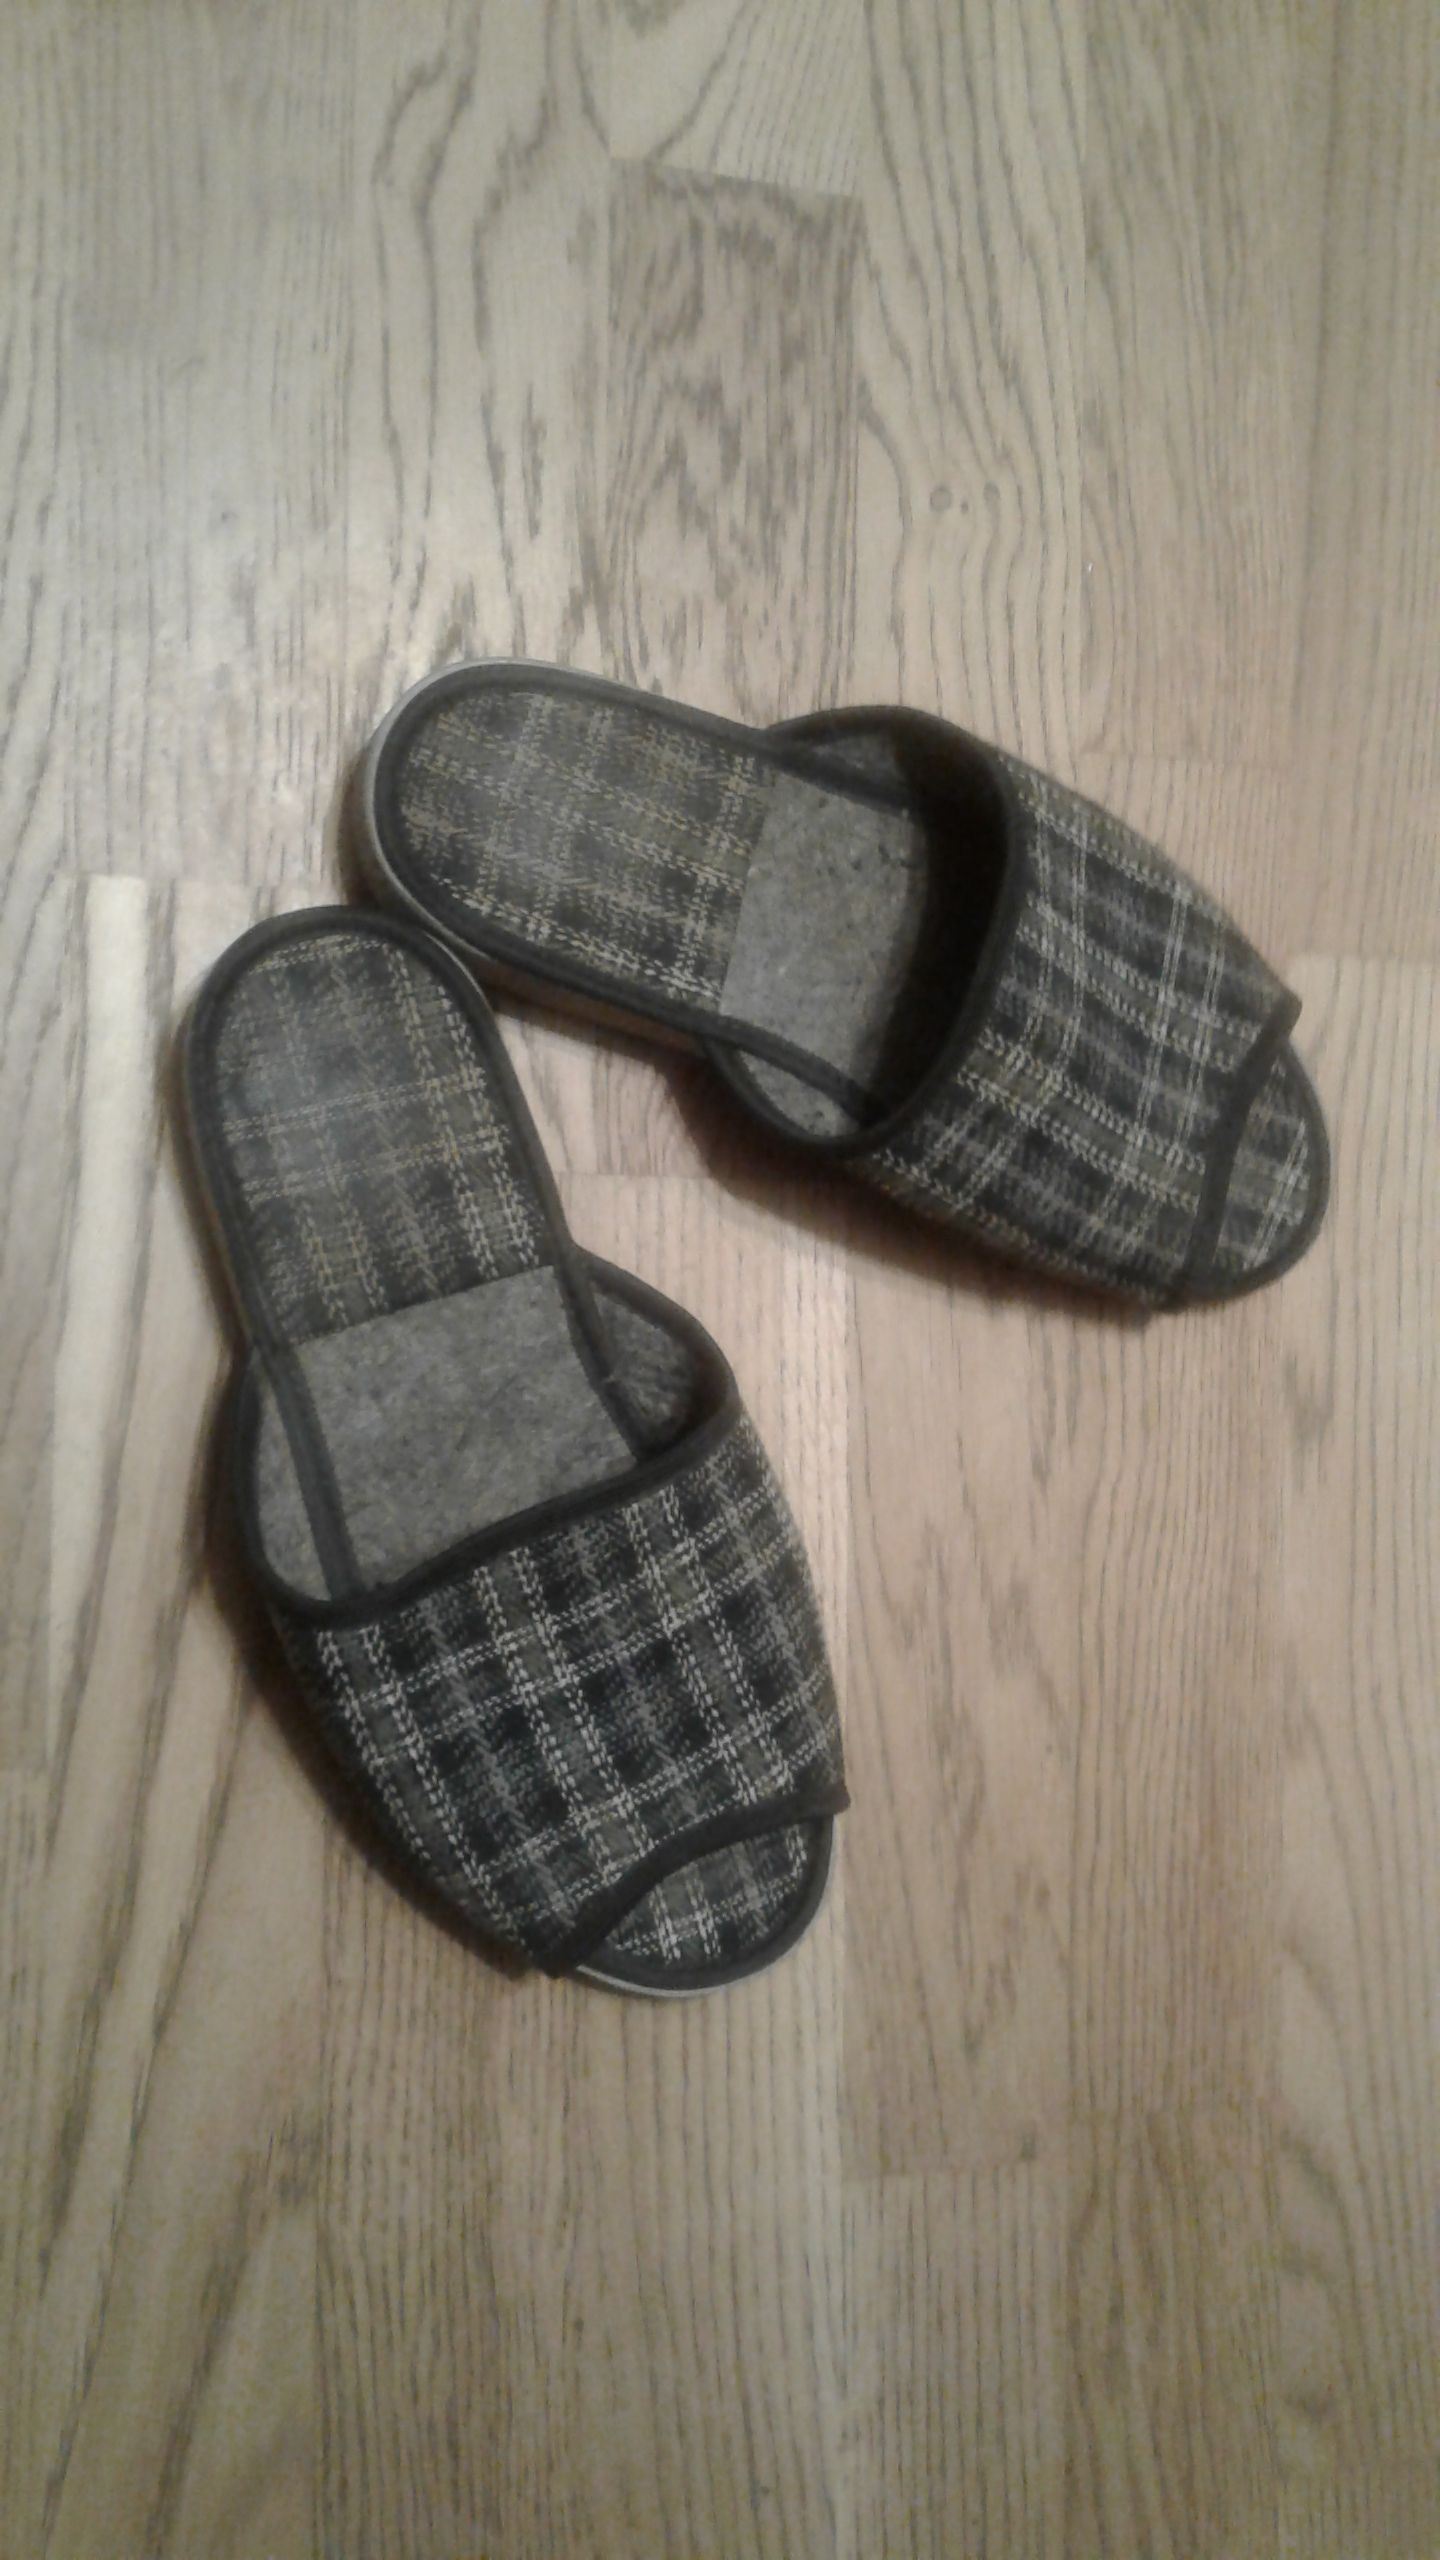clothes: (149, 658, 1387, 2038)
